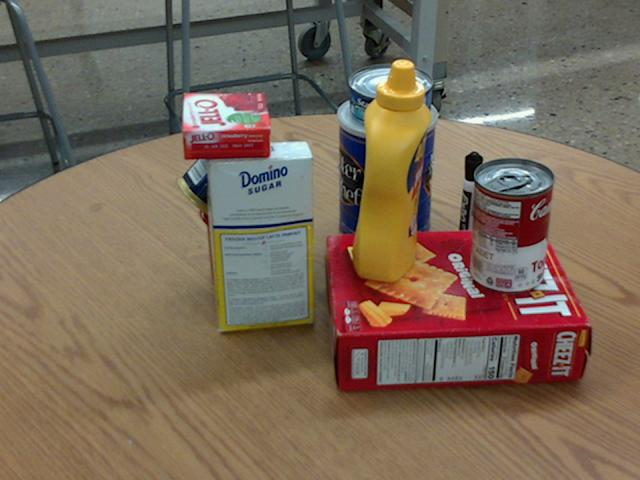cracker_box: (327, 226, 588, 391)
gelatin_box: (183, 91, 269, 159)
large_marker: (456, 152, 481, 260)
master_chef_can: (338, 92, 439, 251)
mug: (197, 182, 291, 293)
mustard_bottle: (352, 58, 431, 282)
potted_meat_can: (176, 117, 311, 246)
sugar_box: (204, 139, 314, 330)
tomato_soup_can: (471, 156, 555, 293)
tuna_fish_can: (349, 64, 433, 126)
